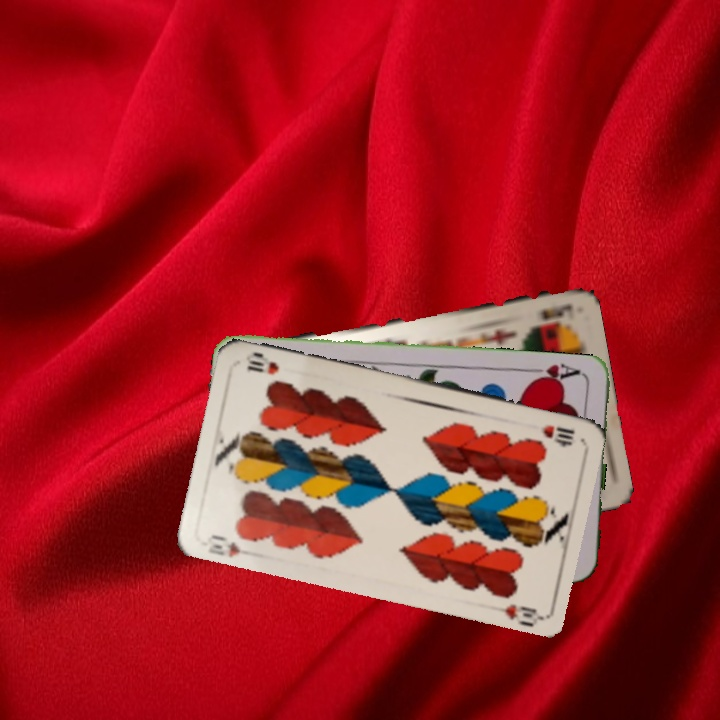H10: (204, 530, 243, 559), (538, 421, 578, 445)
HA: (526, 360, 586, 387)
SK: (536, 299, 574, 323)
